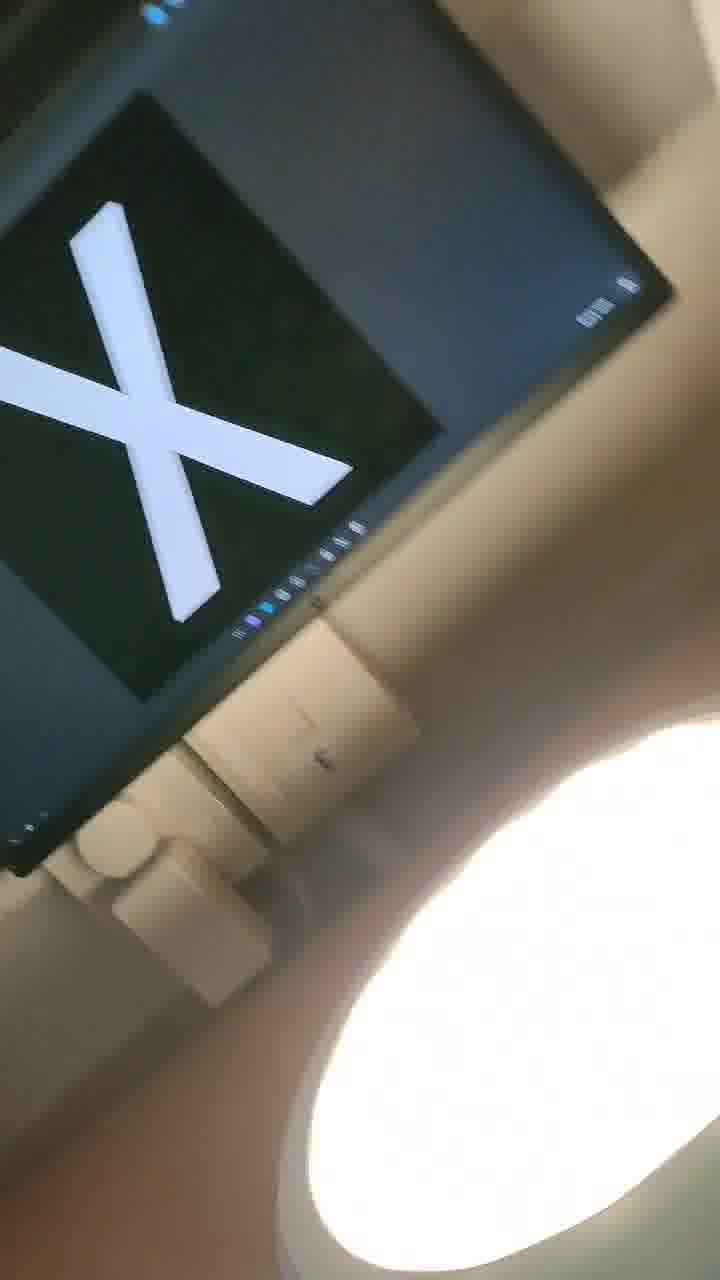X: (12, 149, 384, 636)
